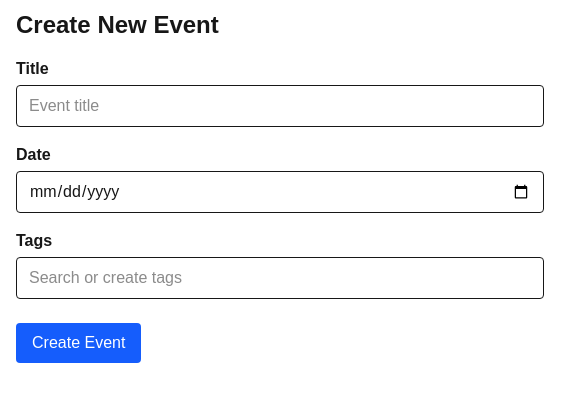
Test: <NewEventForm /> › shows validation errors for required fields
Click the button "Create Event" at (79, 343), box top-left (16, 323), bottom-right (141, 363)
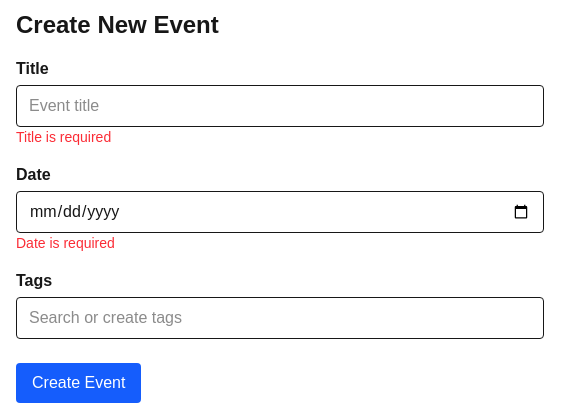
Check: the text "Title is required" is shown, box top-left (16, 129), bottom-right (111, 145)
Check: the text "Date is required" is shown, box top-left (16, 235), bottom-right (115, 251)
